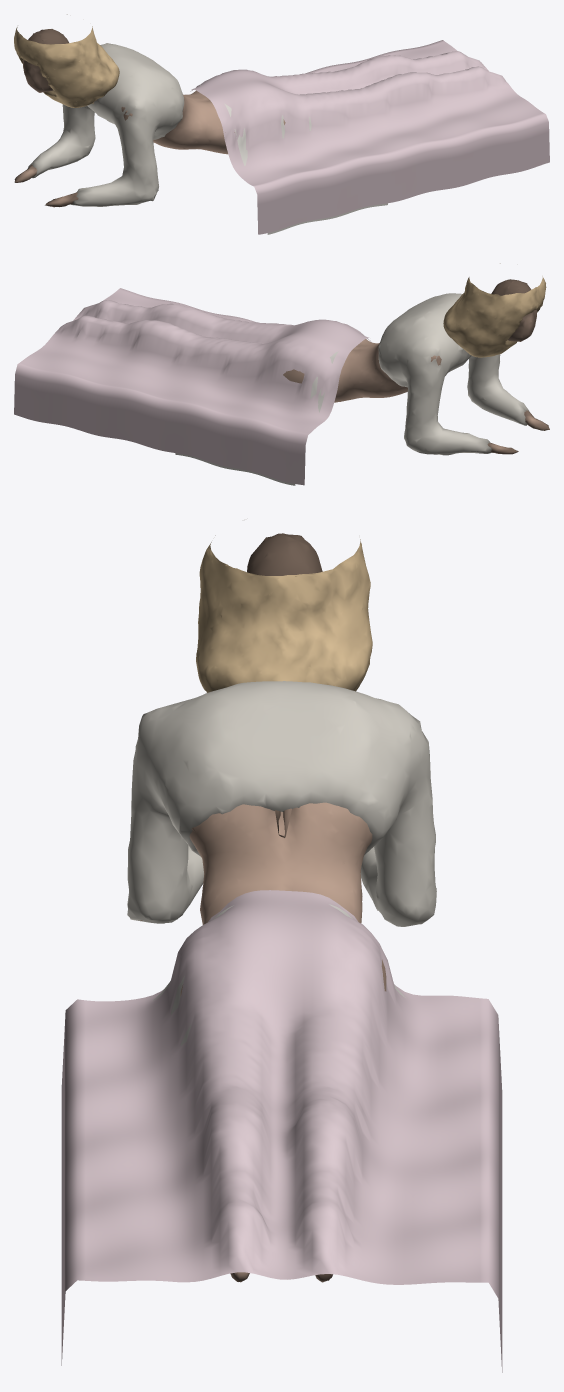
Rendered from kundin_up.glb.
The picture shows the model from 3 angles, top to bottom: view 1: azimuth 30°, elevation 25°; view 2: azimuth 150°, elevation 25°; view 3: azimuth 270°, elevation 25°; orthographic projection. The views are drawn at different scales.
Visible parts, largest first — view 1: robe, chest, hair, body, towel; view 2: robe, chest, hair, body, towel; view 3: robe, chest, hair, body.
Boxes of the visible parts, x1,y1,x2,y2 form: robe: (190,40,549,234); chest: (27,43,184,206); hair: (14,14,119,107); body: (14,29,285,207); towel: (199,85,387,234); robe: (14,288,371,485); chest: (378,293,529,455); hair: (443,263,546,357); body: (283,279,549,454); towel: (175,334,362,485); robe: (61,890,502,1372); chest: (127,681,436,926); hair: (196,535,372,692); body: (140,533,386,1282).
Bounding box in the file's own units: 1.75 × 0.7334 × 0.7092.
